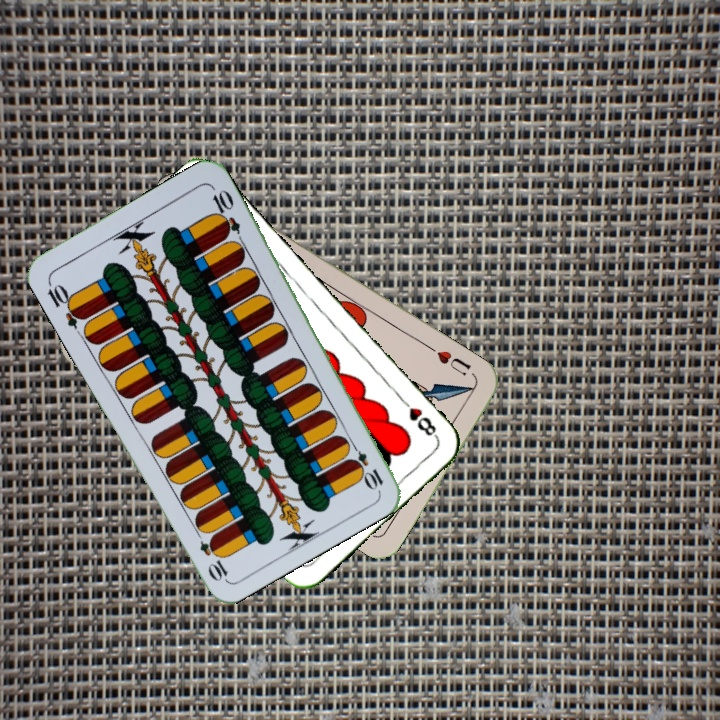E10: (43, 277, 88, 331), (344, 437, 386, 492)
H8: (395, 393, 441, 441)
HU: (432, 346, 474, 379)
